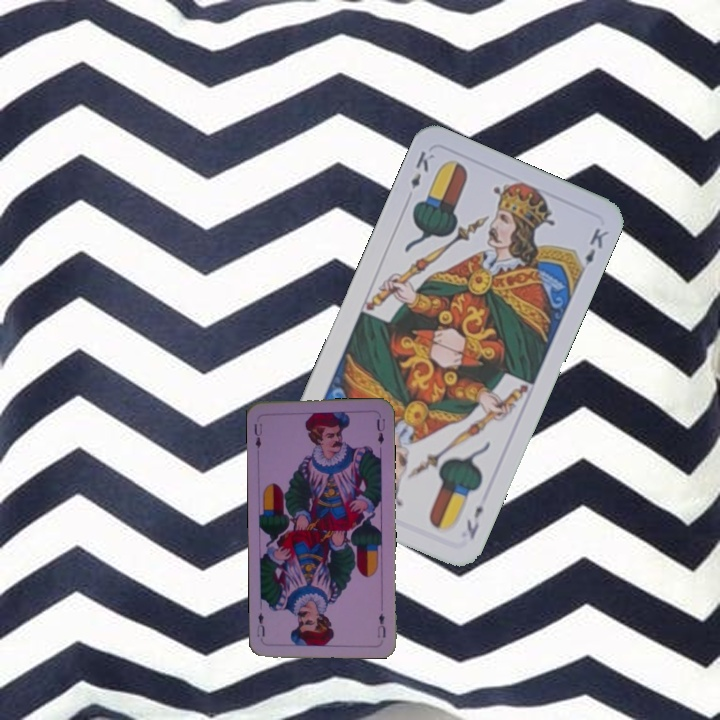EK: (407, 147, 437, 192), (462, 501, 486, 542)
EU: (250, 419, 265, 451), (373, 609, 388, 640)
